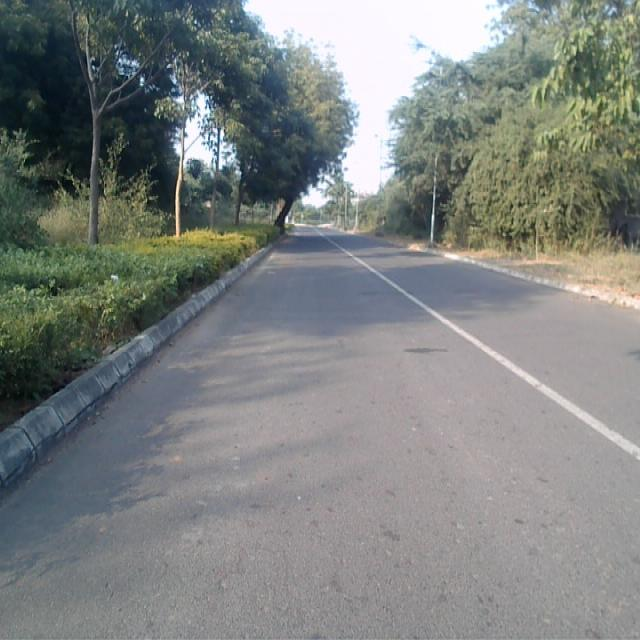lane: (0, 229, 640, 640)
